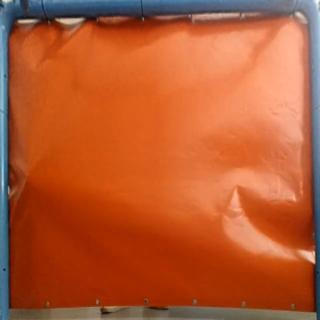Hit-hRxx: (21, 167, 34, 187)
